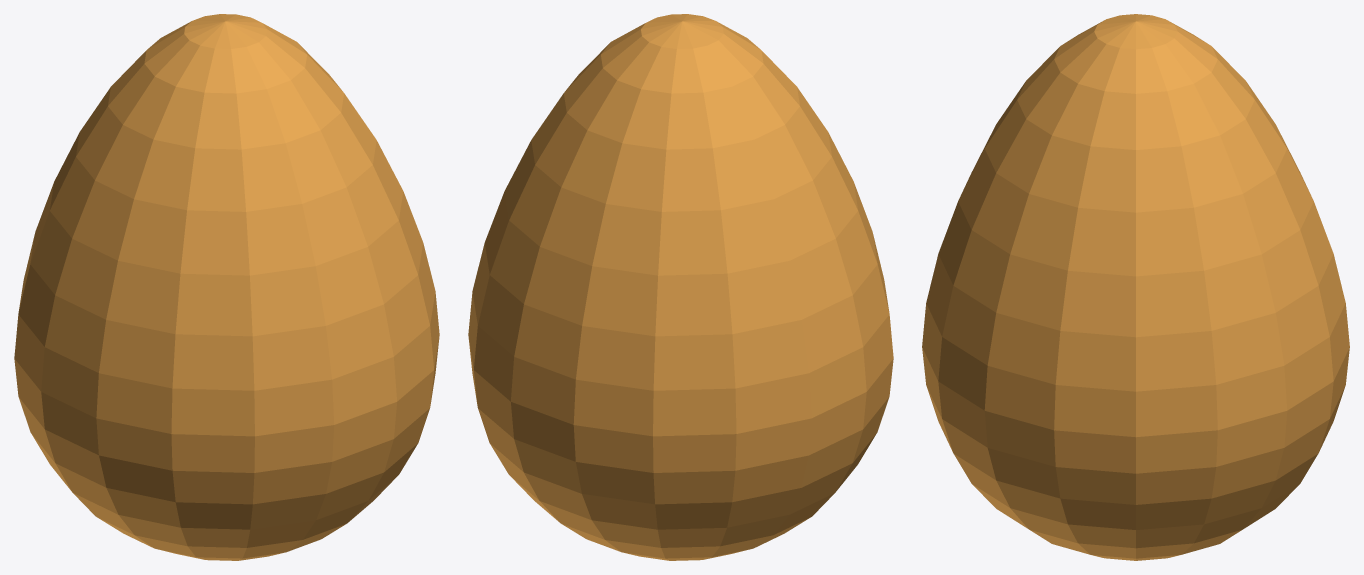
File: egg.fbx
3 views of the same model, side by side, from view 1: azimuth 30°, elevation 25°; view 2: azimuth 150°, elevation 25°; view 3: azimuth 270°, elevation 25° (orthographic).
Parts seen in each view (by area): view 1: Sphere; view 2: Sphere; view 3: Sphere.
Boxes of the visible parts, x1=… form: Sphere: x1=14, y1=14, x2=439, y2=560; Sphere: x1=468, y1=14, x2=893, y2=560; Sphere: x1=922, y1=14, x2=1349, y2=560.
Bounding box in the file's own units: 200 × 200 × 268.
